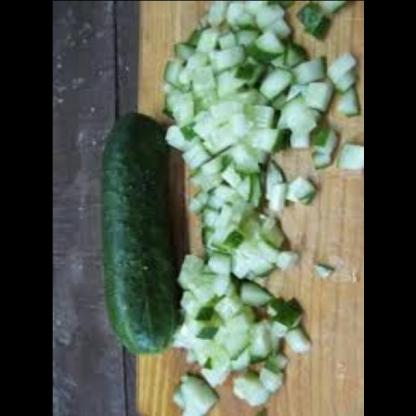cucumber: (158, 0, 355, 416), (90, 101, 186, 363)
